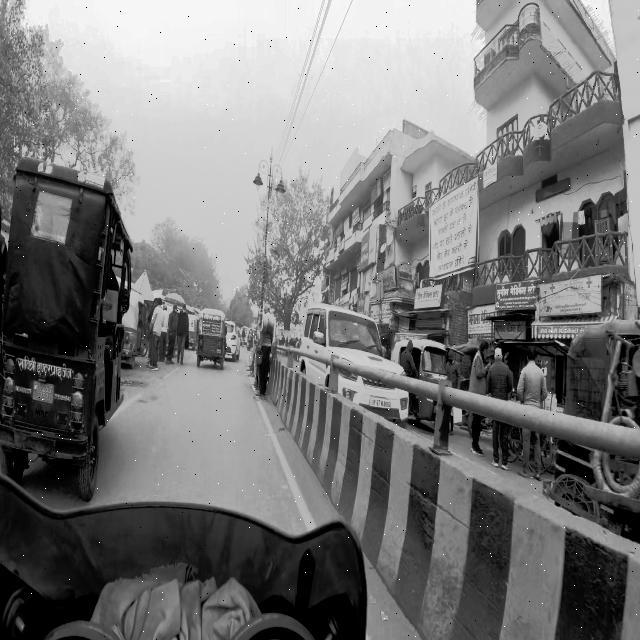Auto-Rickshaw: (392, 334, 457, 436), (198, 302, 227, 373)
Car: (301, 300, 411, 429), (224, 314, 242, 366)
Toto: (3, 150, 137, 508)
